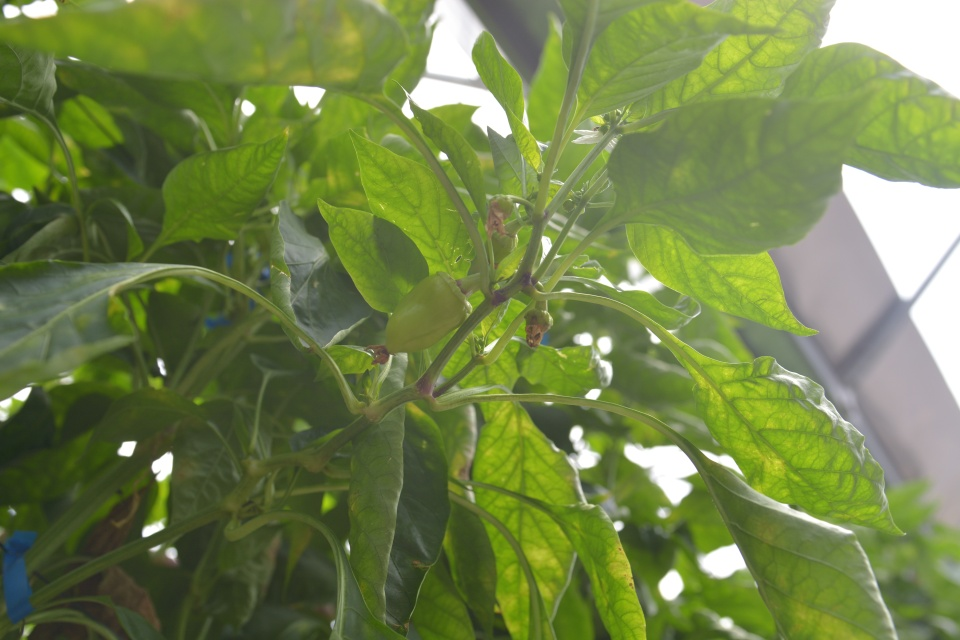immature: (362, 266, 474, 366)
